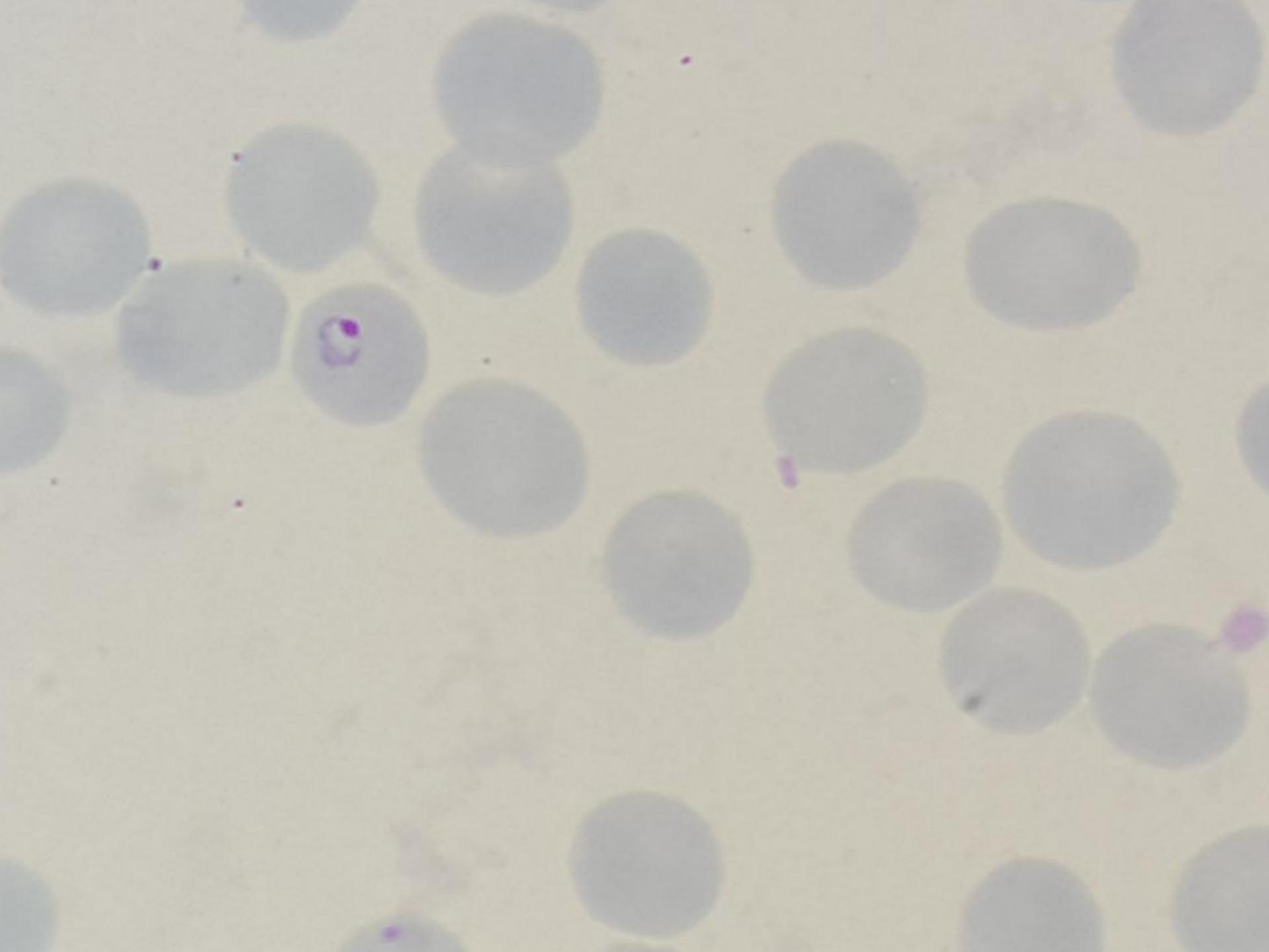Infected: (293, 279, 424, 415)
Uninfected: (1006, 410, 1181, 573), (416, 375, 592, 537), (416, 139, 576, 294), (431, 18, 606, 159), (770, 324, 931, 471), (606, 489, 757, 641), (773, 137, 921, 292), (570, 790, 728, 935), (1097, 621, 1252, 768), (963, 202, 1140, 328), (122, 260, 292, 389), (846, 473, 1003, 611), (942, 590, 1092, 731), (0, 179, 153, 316), (230, 129, 375, 269), (580, 225, 716, 368), (1112, 3, 1258, 135), (963, 858, 1111, 952)
